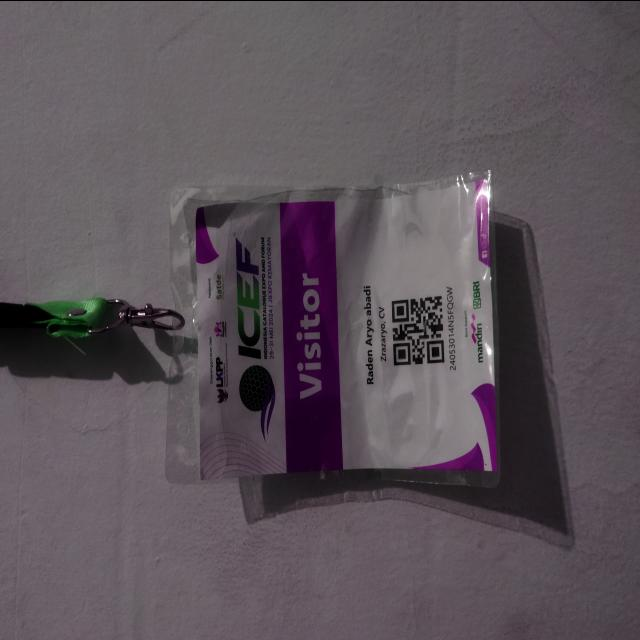ID_card: (166, 168, 500, 487)
